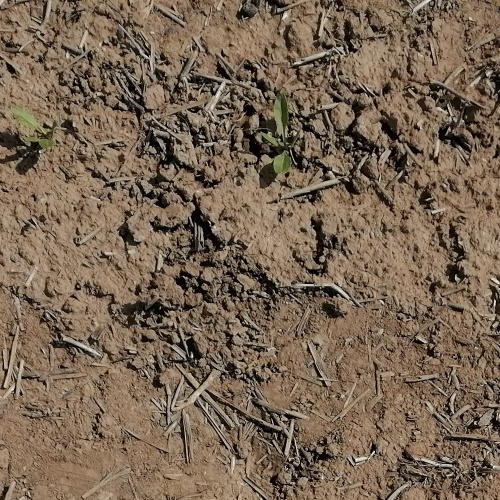beet: (269, 94, 300, 175), (9, 105, 60, 149)
